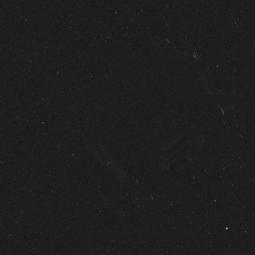proba_2: (94, 24, 231, 190)
